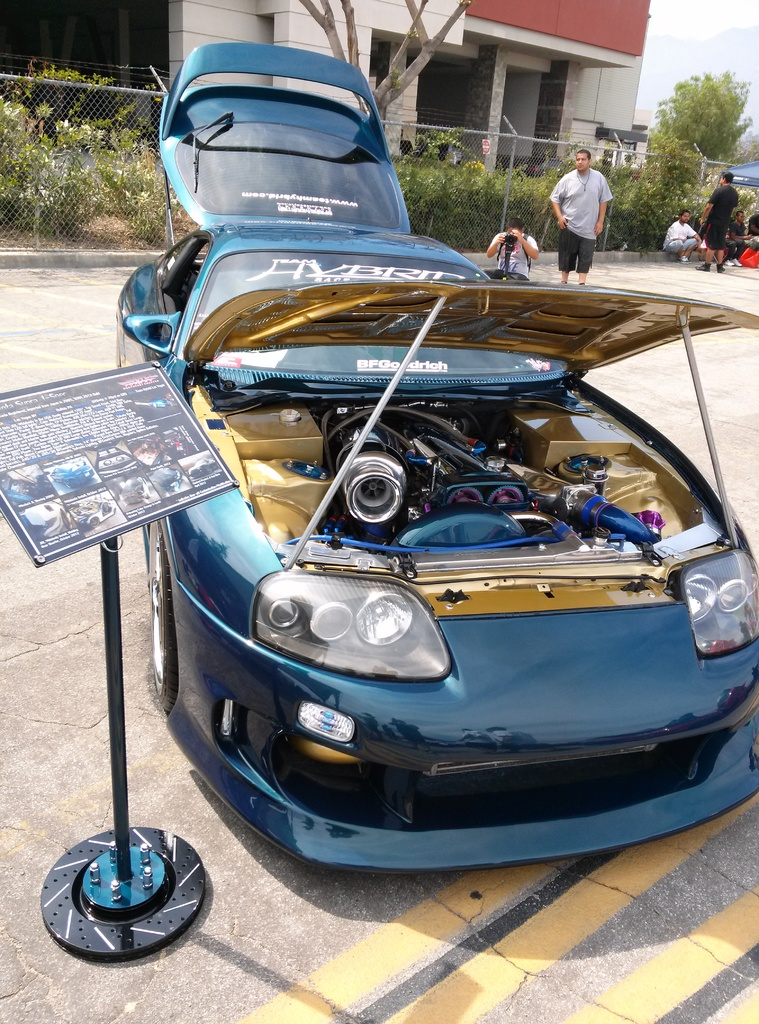Car: (78, 124, 733, 888)
